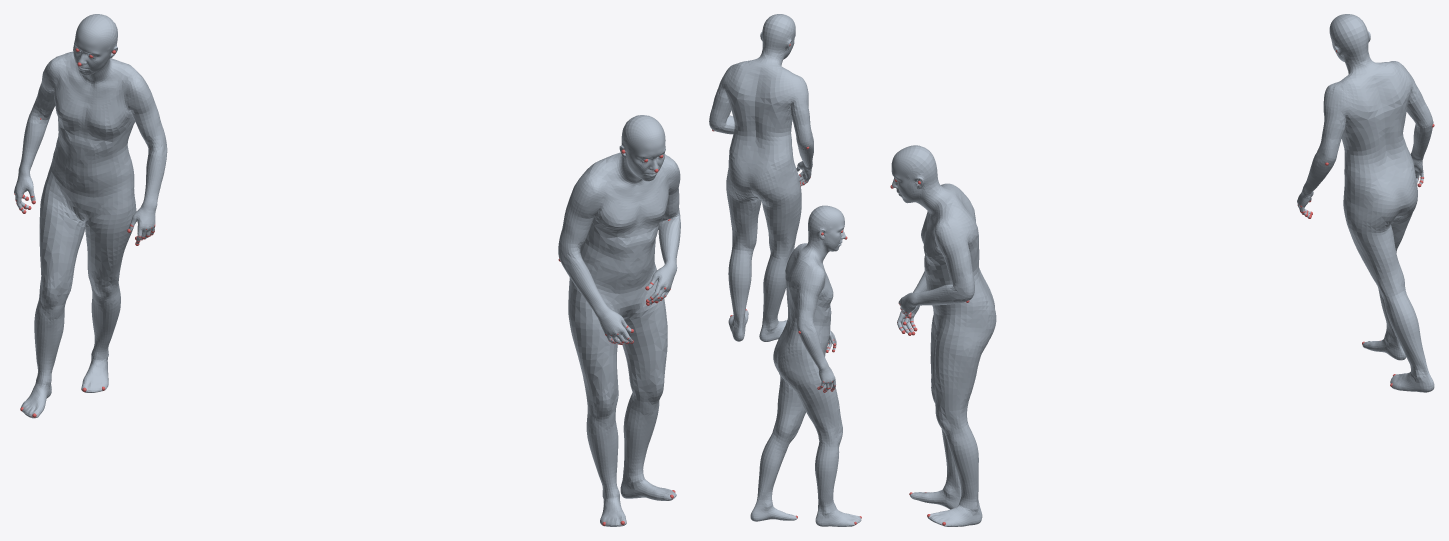
Rendered from combined_bodies.glb.
The picture shows the model from 3 angles, left to right: view 1: azimuth 30°, elevation 25°; view 2: azimuth 150°, elevation 25°; view 3: azimuth 270°, elevation 25°; orthographic projection. The views are drawn at different scales.
Parts seen in each view (by area): view 1: person_01, person_00; view 2: person_01, person_00; view 3: person_00, person_01.
Boxes of the visible parts, x1,y1,x2,y2 form: person_01: (558,115,680,526); person_00: (14,14,167,418); person_01: (709,14,813,341); person_00: (750,205,861,526); person_00: (1297,14,1434,392); person_01: (891,145,996,526).
Bounding box in the file's own units: 1.85 × 1.71 × 2.29.
